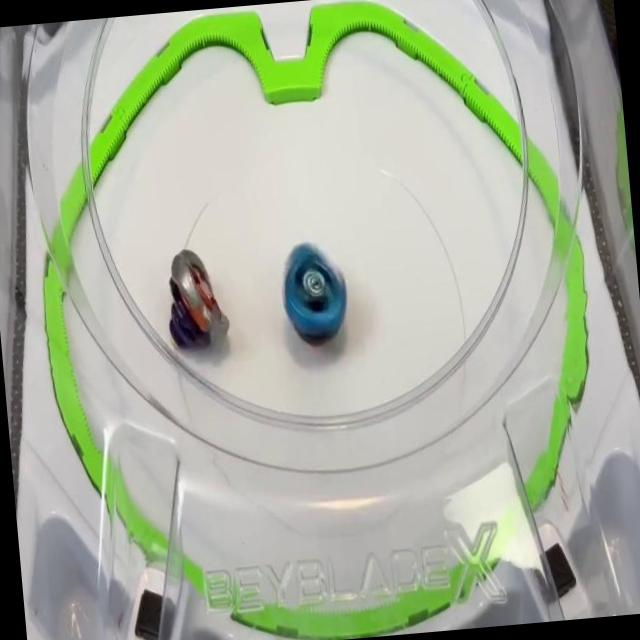Beyblade: (277, 240, 350, 346), (161, 246, 231, 354)
